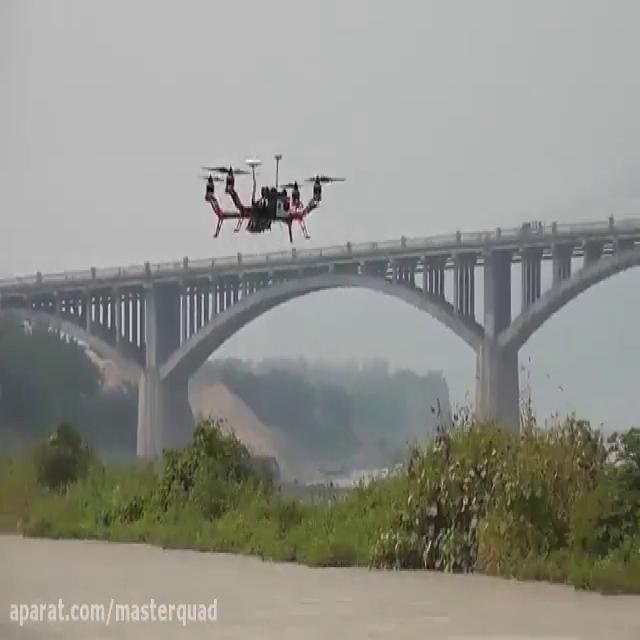drone: (194, 147, 350, 245)
